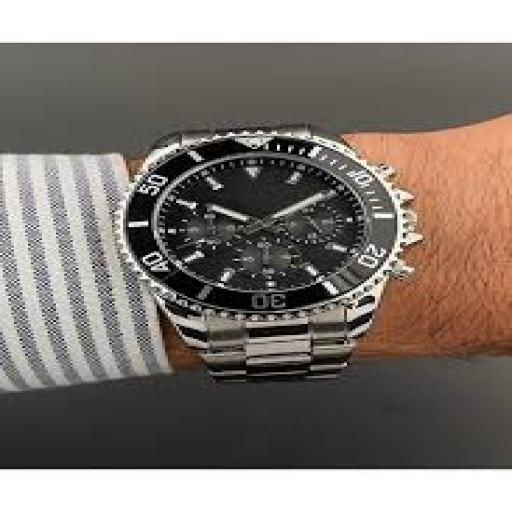KolSaati: (96, 82, 434, 391)
